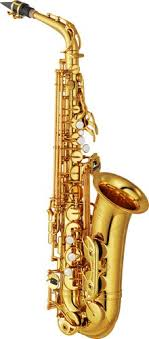Saxophone: (3, 1, 149, 339)
